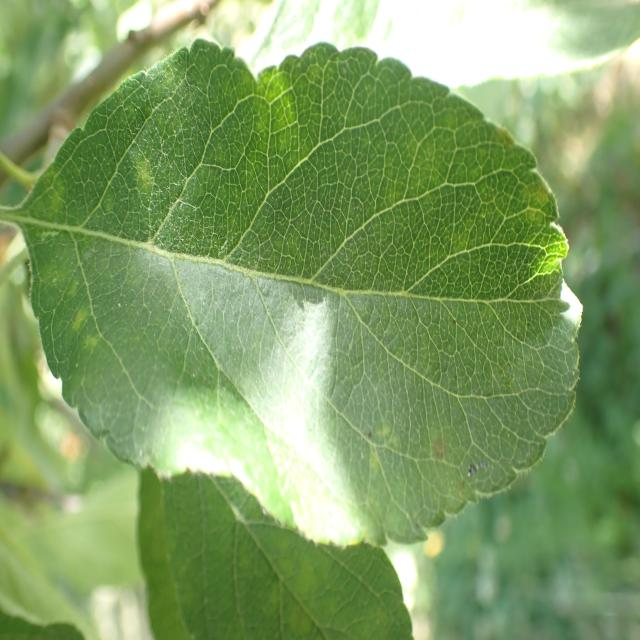scab: (71, 93, 538, 506)
